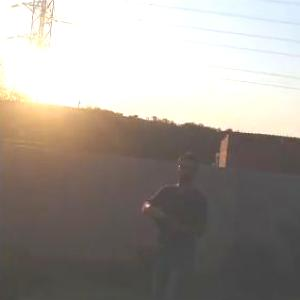follow: (133, 148, 219, 299)
